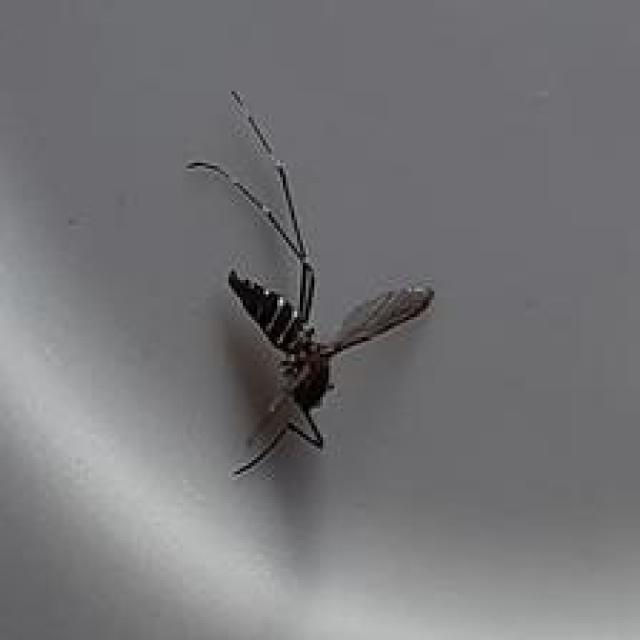Aedes albopictus: (184, 87, 436, 479)
